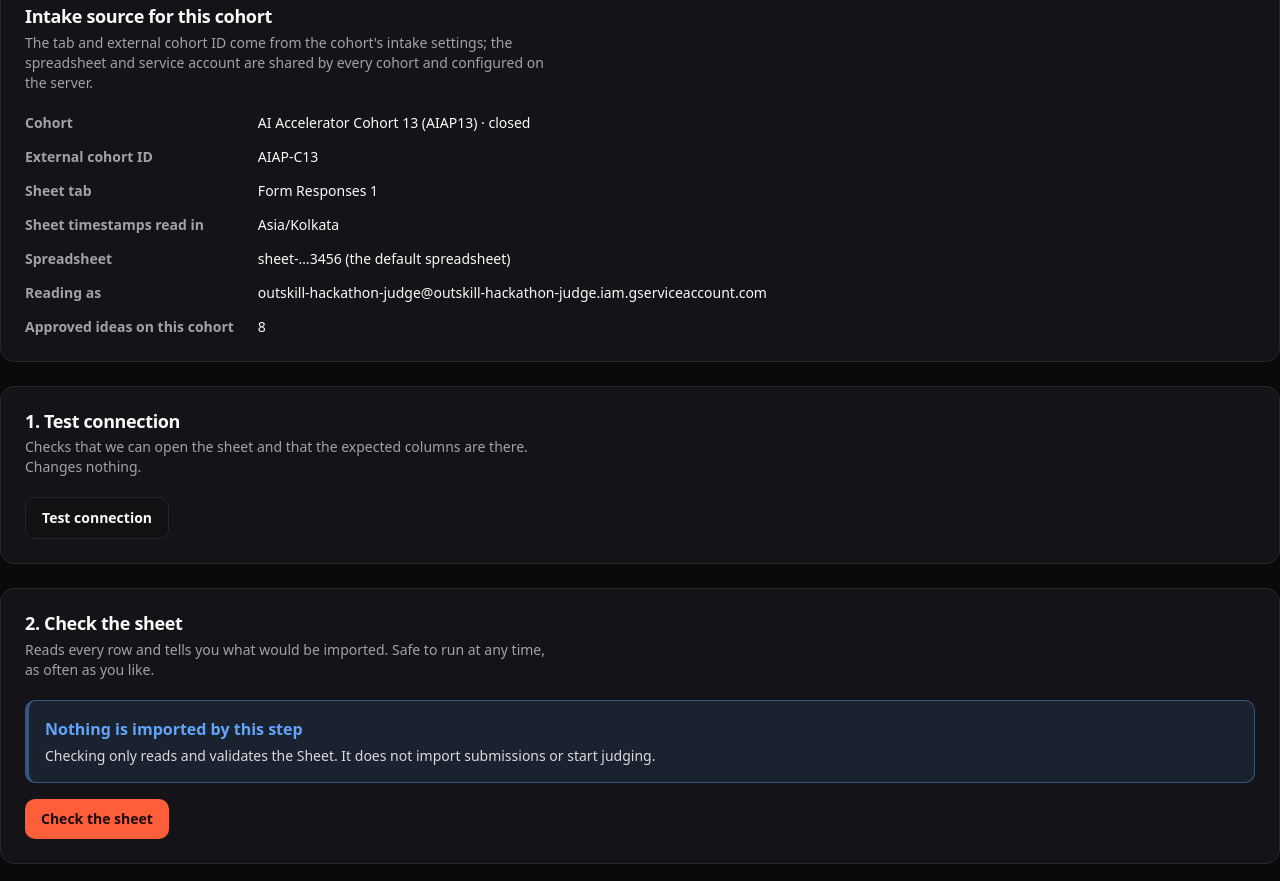
after importing › says judging has not started and offers the next places to look
Step 1. Click the button "Check the sheet" → (97, 819), box [25, 799, 169, 839]
(page scrolled)
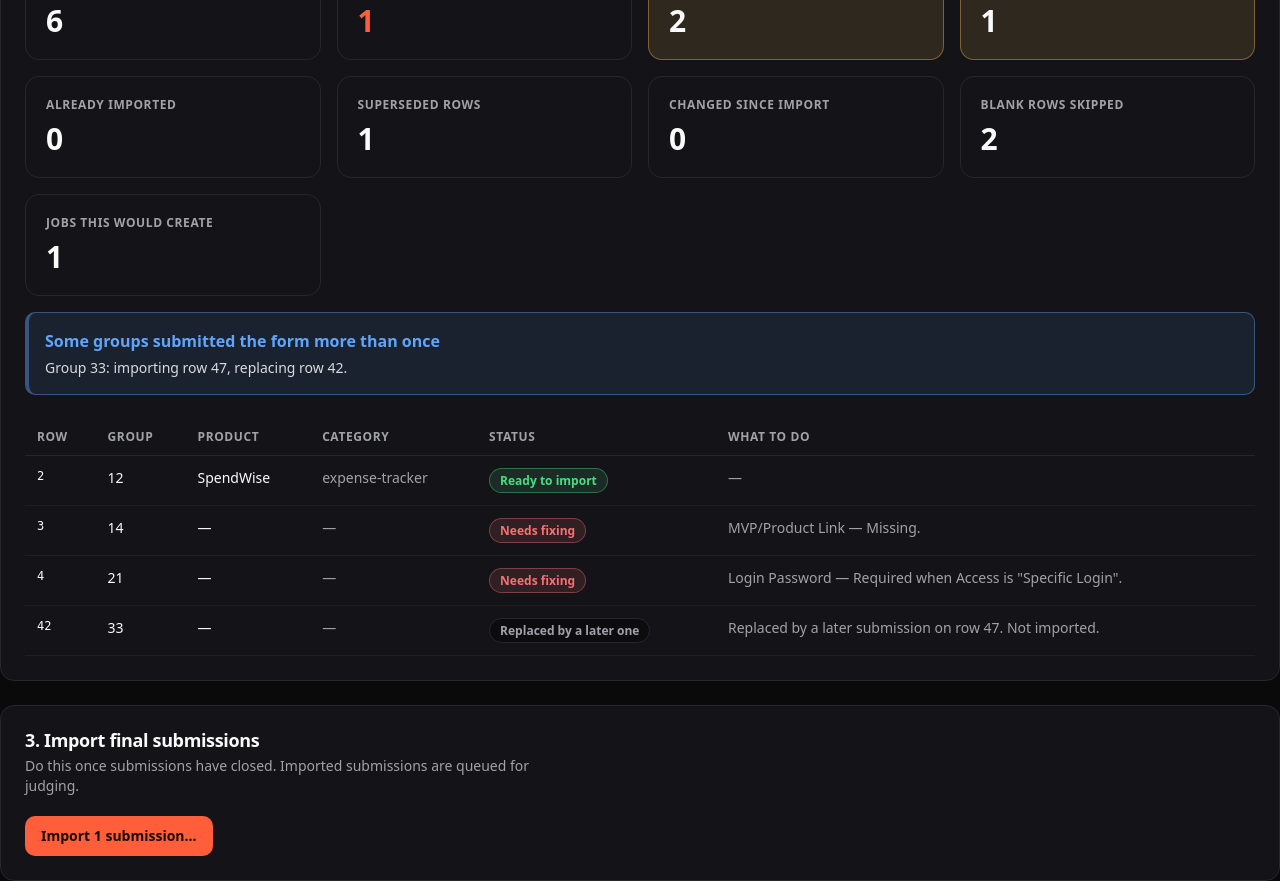
Step 2. Click the button "Import 1 submission…" → (119, 836), box [25, 816, 212, 856]
(page scrolled)
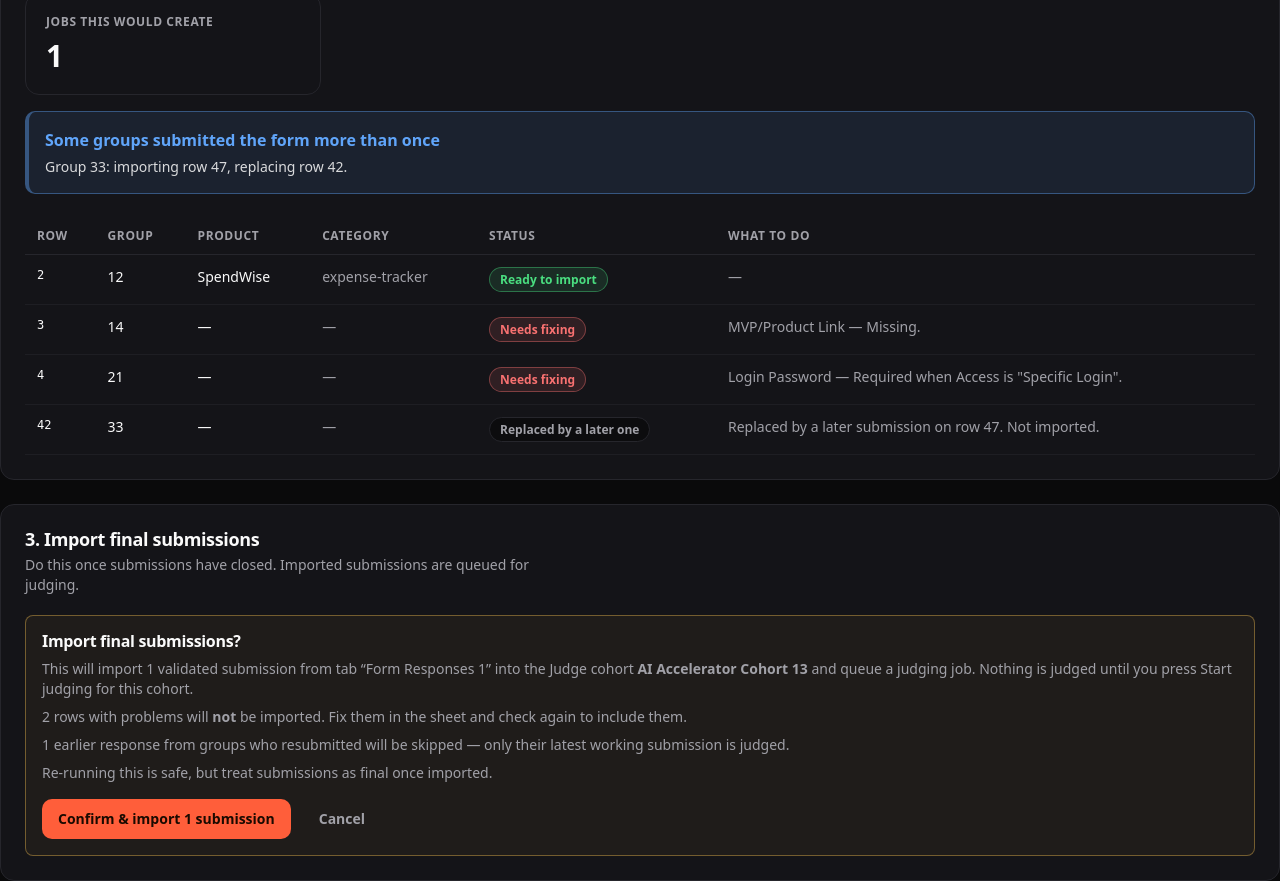
Step 3. Click the button "Confirm & import 1 submission" → (166, 819), box [42, 799, 291, 839]
(page scrolled)
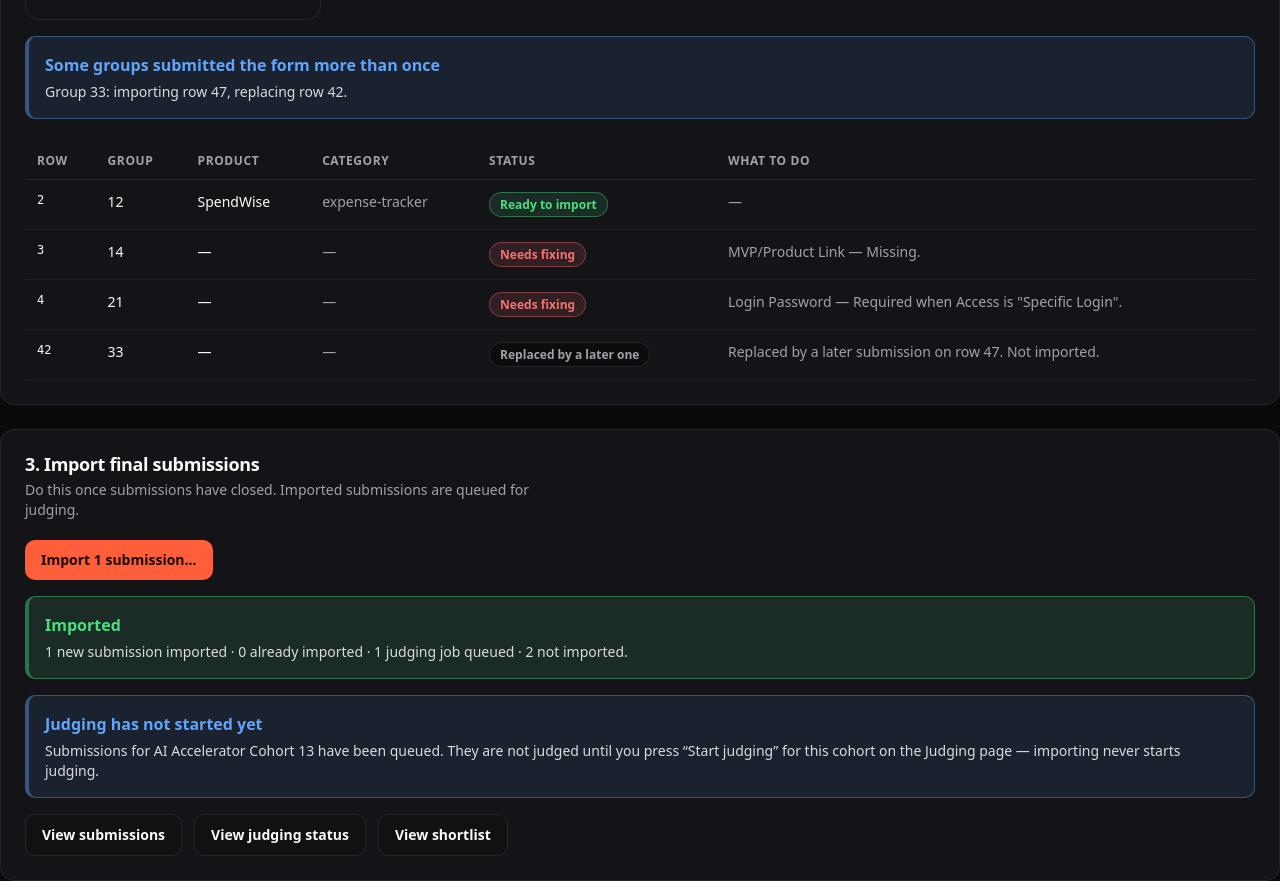
Check: the text "Judging has not started yet" is shown, box [45, 713, 263, 735]
Check: the text "not judged until you press" is shown, box [45, 741, 1180, 780]
Check: the link "View submissions" is shown, box [25, 814, 182, 856]
